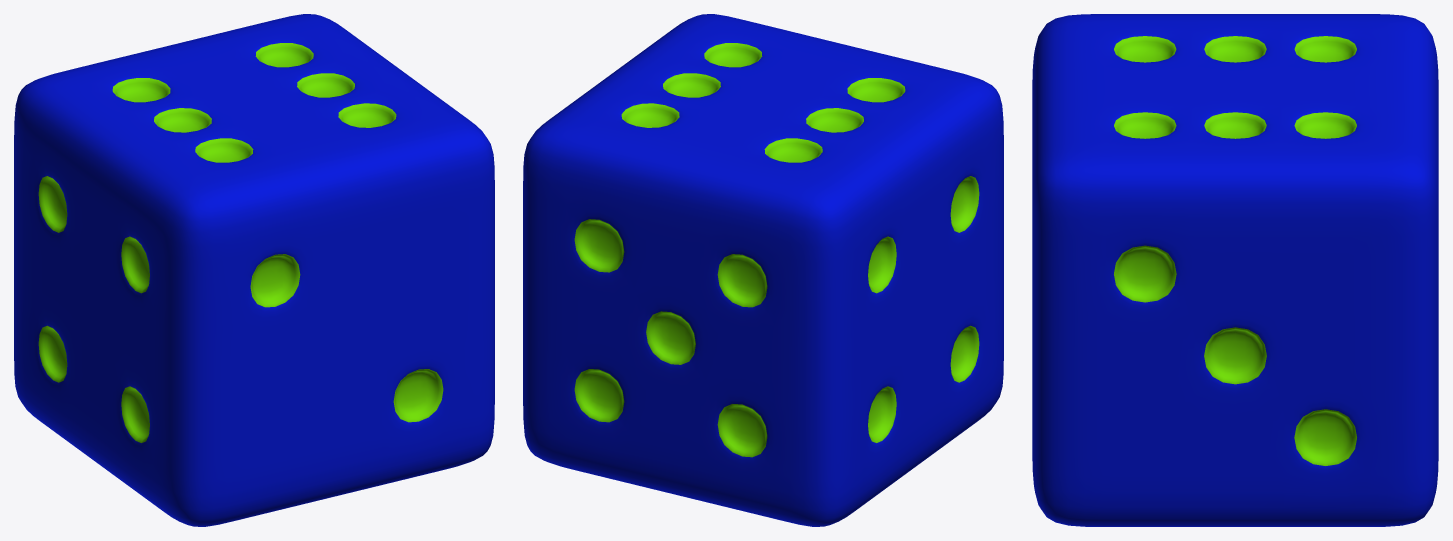
Rendered from dice.fbx.
3 views of the same model, side by side, from view 1: azimuth 30°, elevation 25°; view 2: azimuth 150°, elevation 25°; view 3: azimuth 270°, elevation 25° (orthographic). The views are drawn at different scales.
Parts seen in each view (by area): view 1: dice; view 2: dice; view 3: dice.
Part boxes in pixels (x1,y1,x2,y2): dice: (14, 14, 494, 526); dice: (523, 14, 1003, 526); dice: (1032, 14, 1438, 526).
Bounding box in the file's own units: 2.5 × 2.5 × 2.5.
